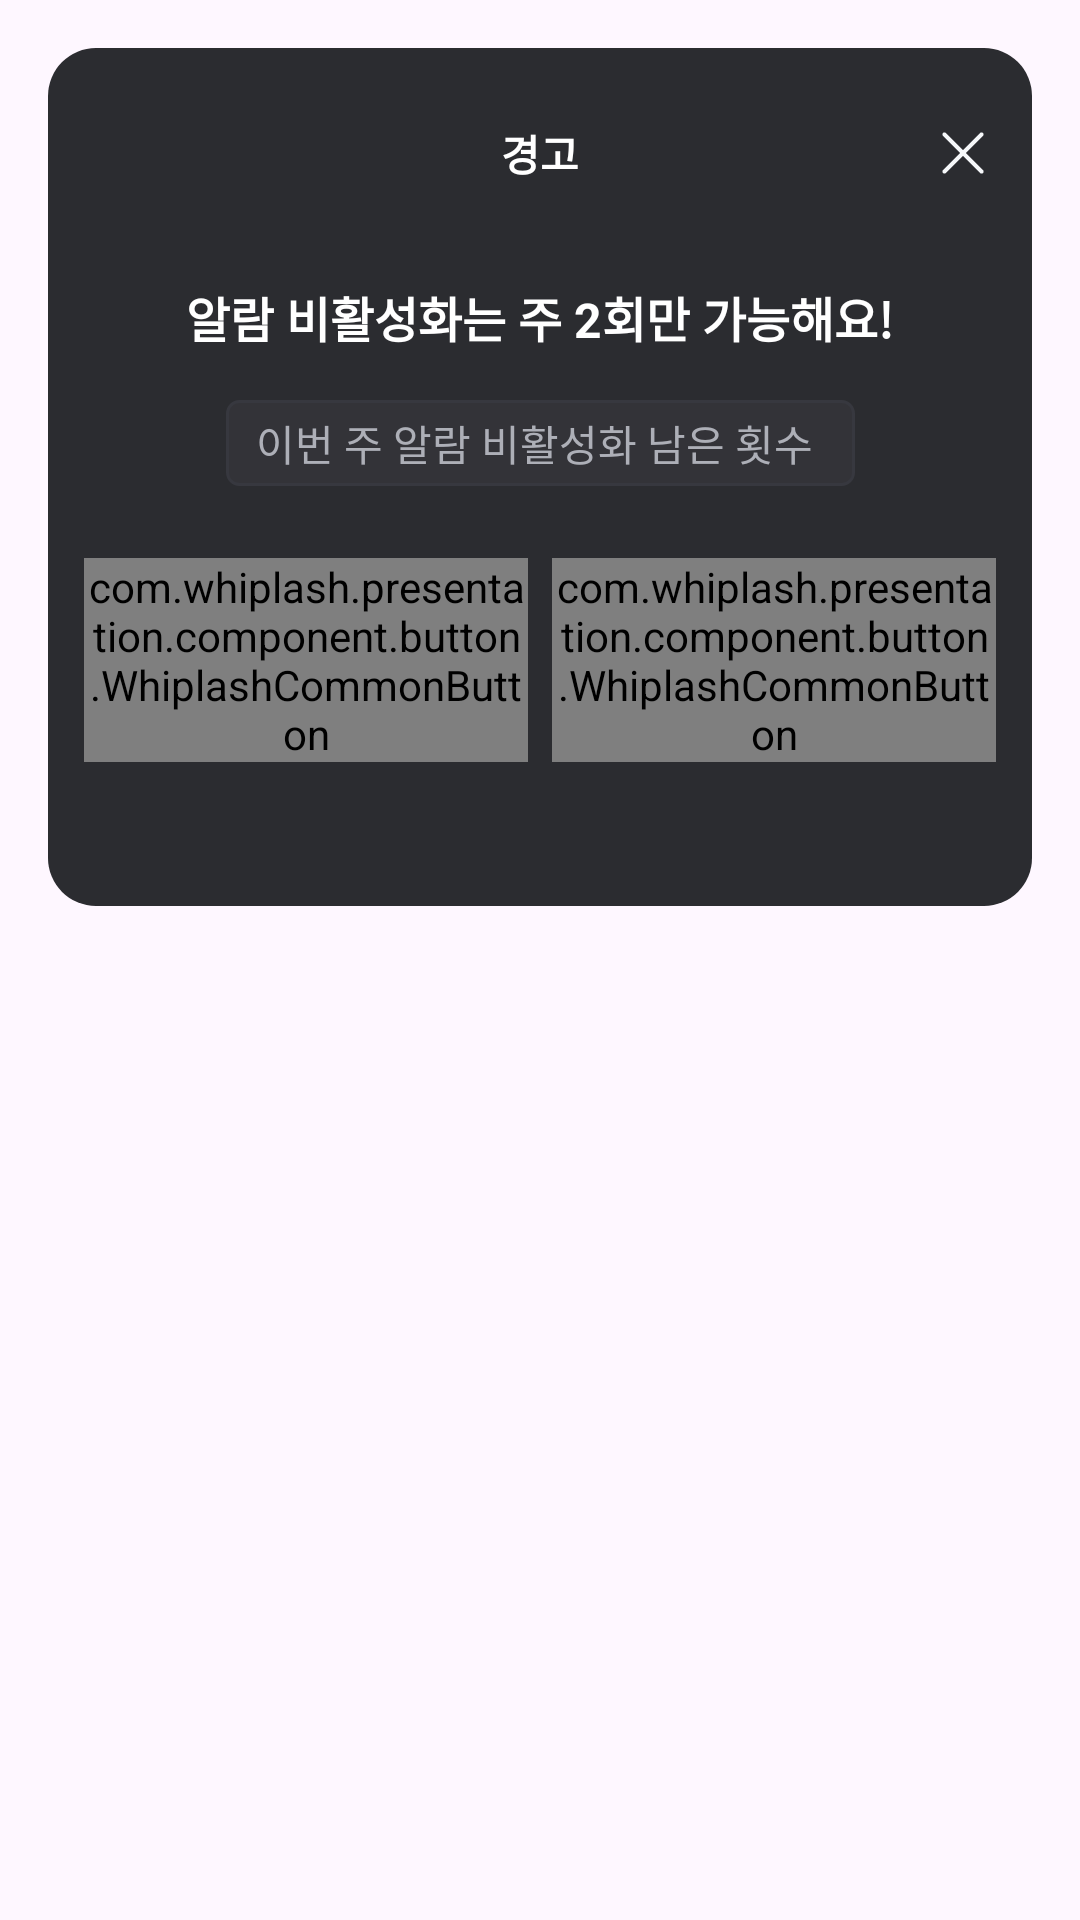

Locate icon controls on the screen. Image size 1080*1920, boxes as (x1, y1, x2, y2).
dismiss: (942, 132, 984, 174)
